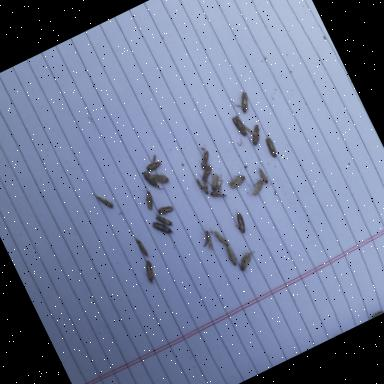pbw: (240, 167, 273, 198), (232, 248, 262, 275), (224, 165, 250, 193), (230, 89, 255, 116), (91, 185, 115, 213), (192, 142, 215, 170), (207, 222, 230, 250), (150, 214, 173, 240), (151, 203, 173, 230), (228, 206, 249, 234), (139, 258, 160, 285), (206, 178, 230, 201), (245, 122, 267, 146), (222, 242, 242, 268), (138, 184, 158, 210), (195, 162, 218, 184), (196, 228, 216, 252), (230, 113, 249, 138), (262, 132, 280, 158), (206, 170, 226, 190), (195, 174, 212, 196), (151, 168, 170, 187), (134, 234, 149, 258), (142, 168, 158, 189), (156, 201, 174, 218), (255, 166, 270, 186), (144, 158, 162, 172), (148, 152, 158, 162)
